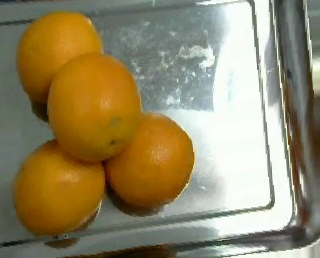Orange: (47, 53, 140, 162), (11, 137, 104, 235), (105, 113, 195, 207), (15, 10, 104, 103)
